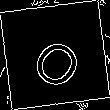O_NE: (22, 22, 88, 88)
